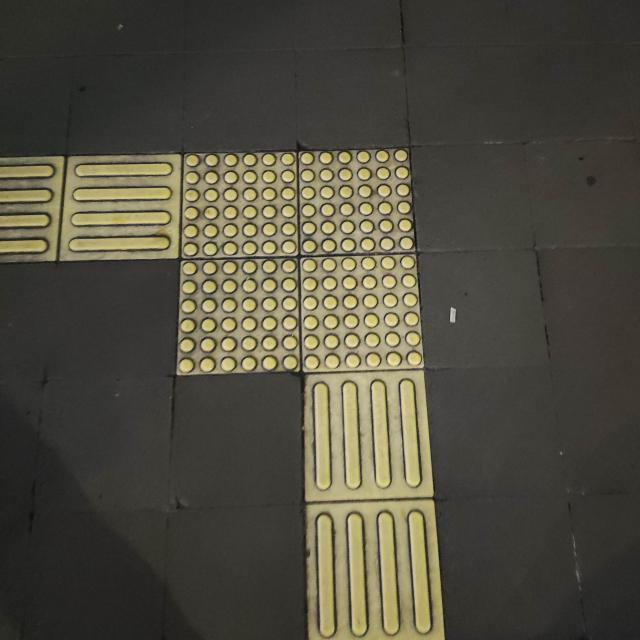kiri: (0, 113, 486, 420)
